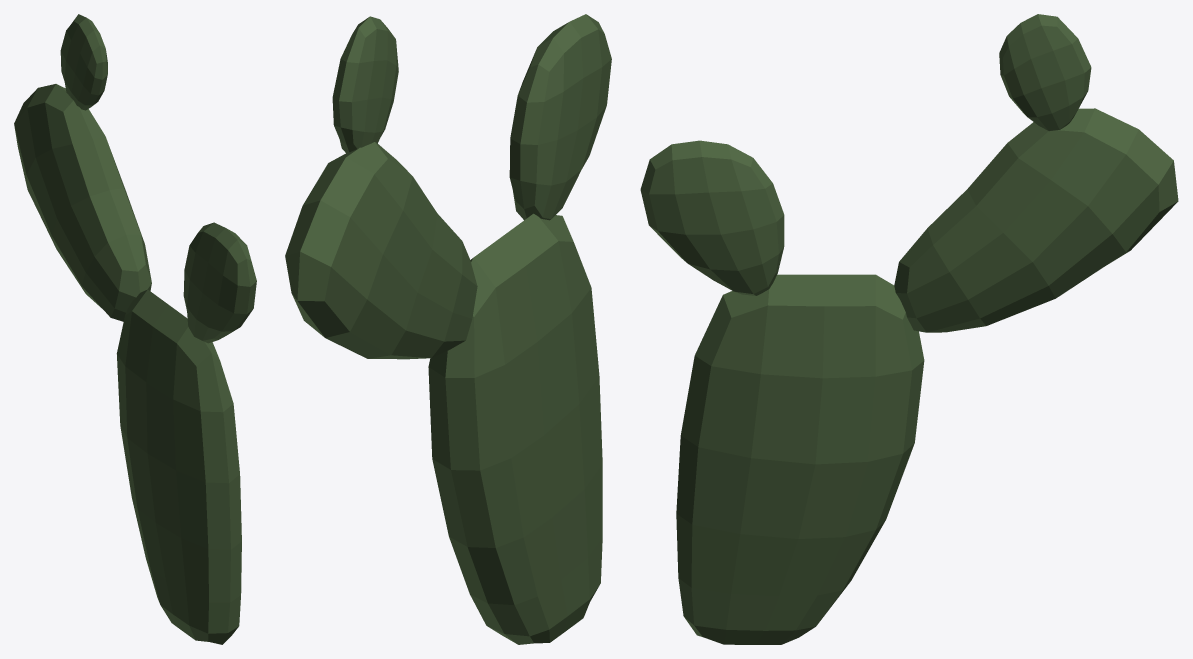
3 renders of one model, left to right at view 1: azimuth 30°, elevation 25°; view 2: azimuth 150°, elevation 25°; view 3: azimuth 270°, elevation 25°, orthographic. The views are drawn at different scales.
Parts seen in each view (by area): view 1: Cactus_5; view 2: Cactus_5; view 3: Cactus_5.
Boxes of the visible parts, x1,y1,x2,y2 form: Cactus_5: (14,14,256,644); Cactus_5: (285,14,611,644); Cactus_5: (640,14,1178,644).
Bounding box in the file's own units: 0.1116 × 0.8812 × 0.6804.
